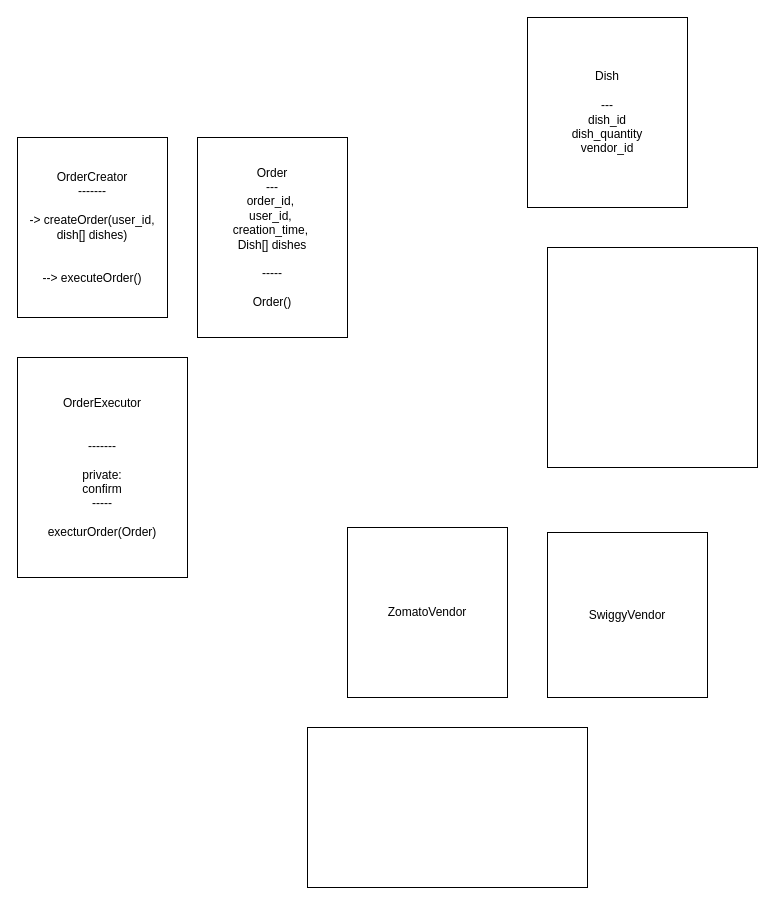
Some shapes in this 775 by 905 pixel diagram are drawn without their labels. The centre of each missing label's shape, as x and y in pixels:
Vendor -- acceptOrder --- processOrder --- deliverOrder: (652,357)
VendorFactory ---- createVendor(): (447,807)
